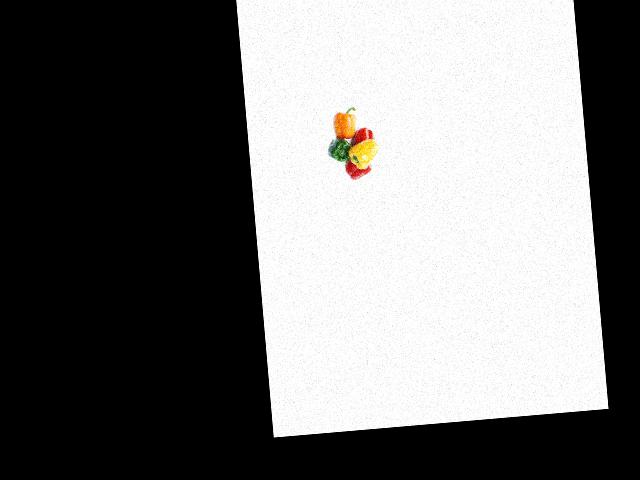bell_pepper: (323, 135, 359, 168)
